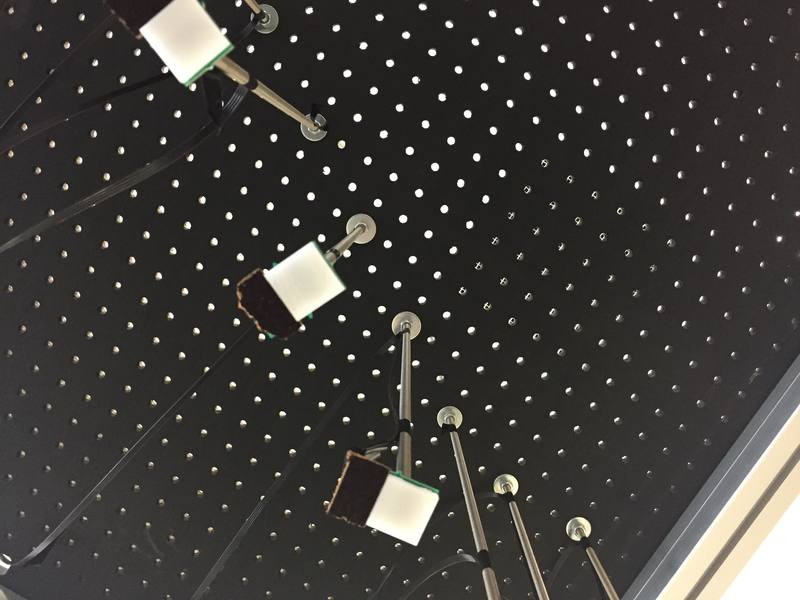target: (137, 2, 230, 81), (363, 469, 441, 551), (264, 243, 345, 319)
